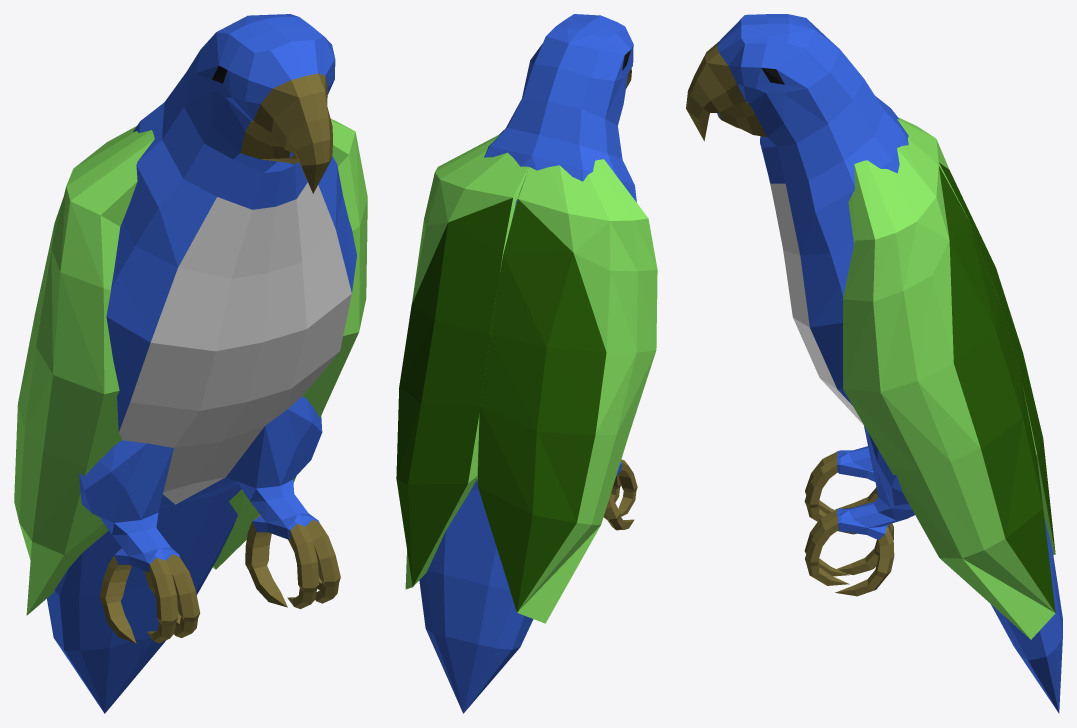
Rendered from Parrot.fbx.
3 views of the same model, side by side, from view 1: azimuth 30°, elevation 25°; view 2: azimuth 150°, elevation 25°; view 3: azimuth 270°, elevation 25° (orthographic). The views are drawn at different scales.
Visible parts, largest first — view 1: Parrot; view 2: Parrot; view 3: Parrot.
Boxes of the visible parts, <box> form: Parrot: <box>14,14,367,713</box>; Parrot: <box>396,14,657,713</box>; Parrot: <box>686,14,1062,713</box>.
Bounding box in the file's own units: 0.1501 × 0.3712 × 0.1838.
